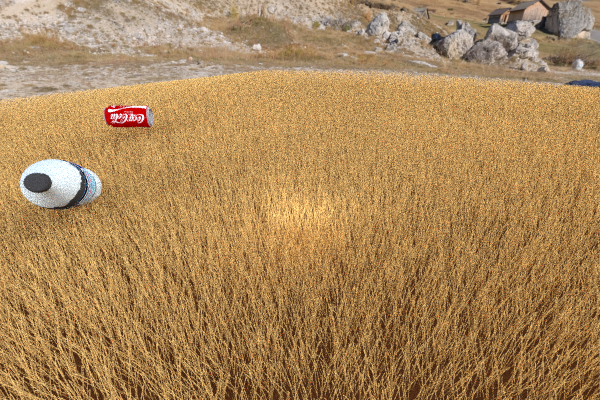bottle: (19, 159, 101, 209)
can: (528, 86, 587, 110), (103, 105, 153, 127)
